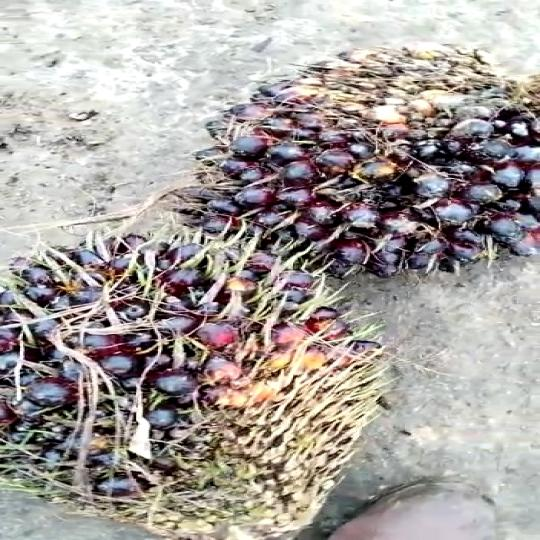kurang masak: (14, 215, 404, 540), (185, 42, 540, 246)
